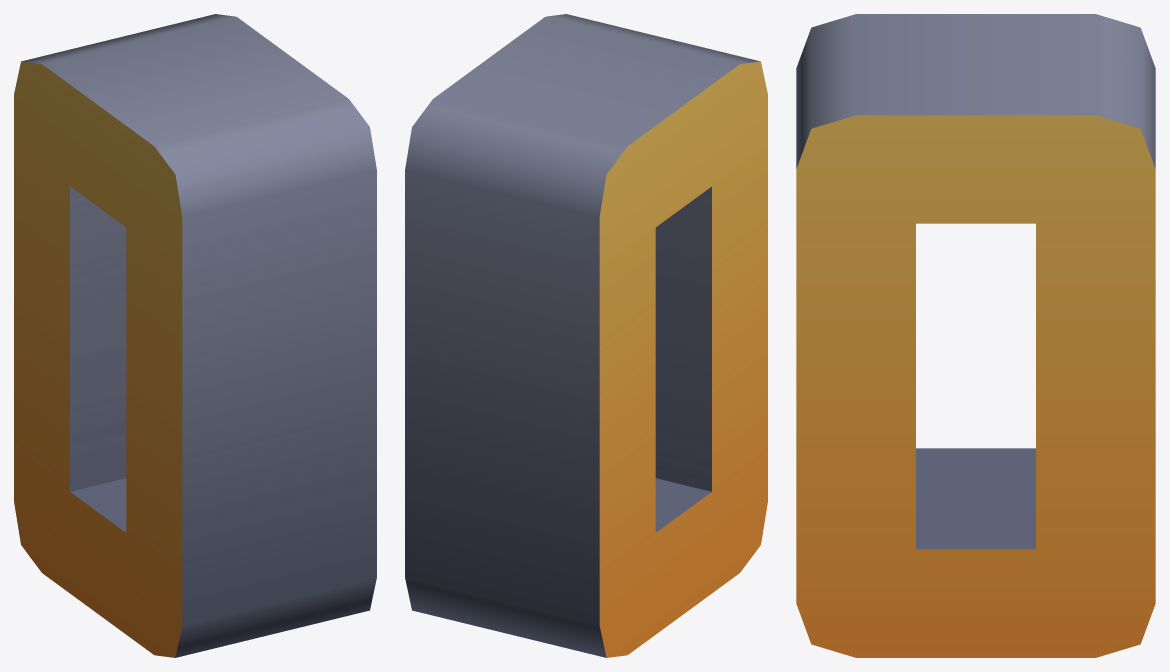
Rendered from number-0.fbx.
3 views of the same model, side by side, from view 1: azimuth 30°, elevation 25°; view 2: azimuth 150°, elevation 25°; view 3: azimuth 270°, elevation 25° (orthographic). The views are drawn at different scales.
Parts seen in each view (by area): view 1: number-0; view 2: number-0; view 3: number-0.
Boxes of the visible parts, box(x1,y1,x2,y2) form: number-0: box(14, 14, 376, 657); number-0: box(405, 14, 767, 657); number-0: box(796, 14, 1155, 657).
Size of the model in its own units: 20 by 50 by 30.
